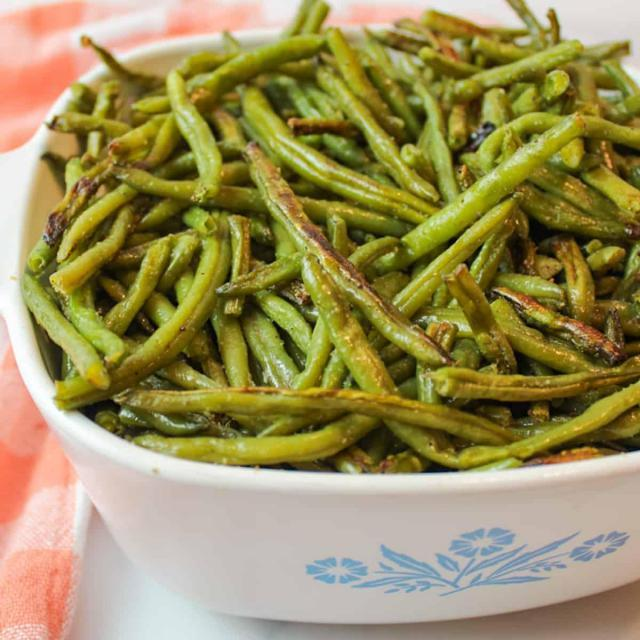Beans: (12, 43, 639, 462)
